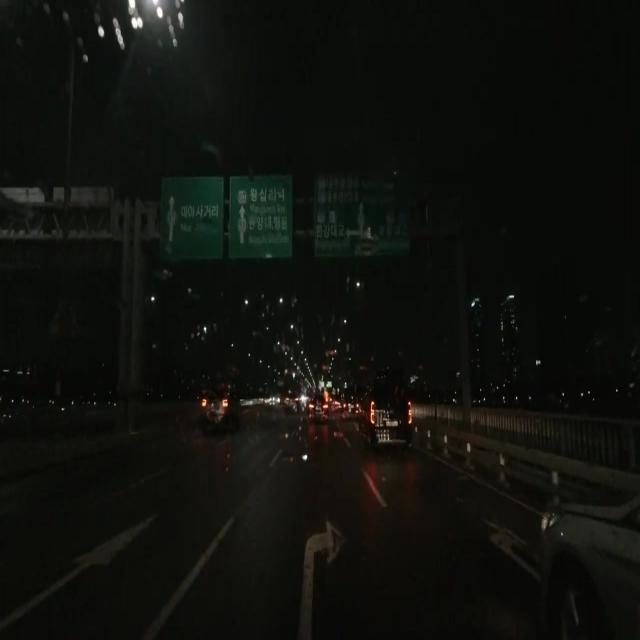Car: (536, 486, 639, 633), (357, 383, 410, 453), (196, 378, 239, 423), (306, 387, 330, 419)
